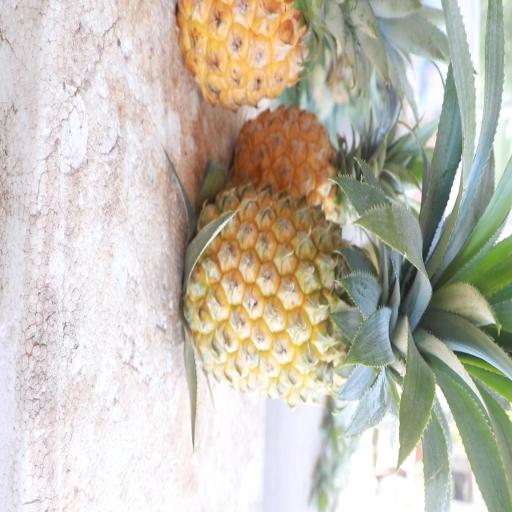Pineapple - v8 v1: (178, 181, 416, 407), (174, 0, 368, 119), (231, 99, 370, 239), (244, 98, 244, 99)
